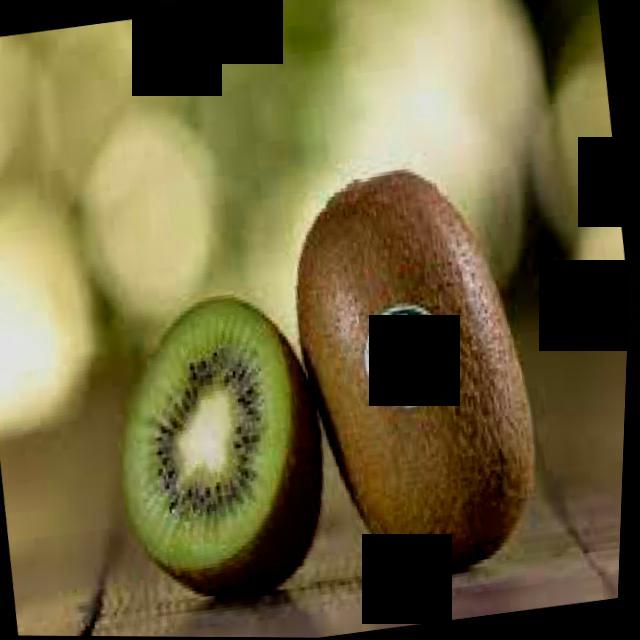kiwi: (272, 153, 568, 595)
